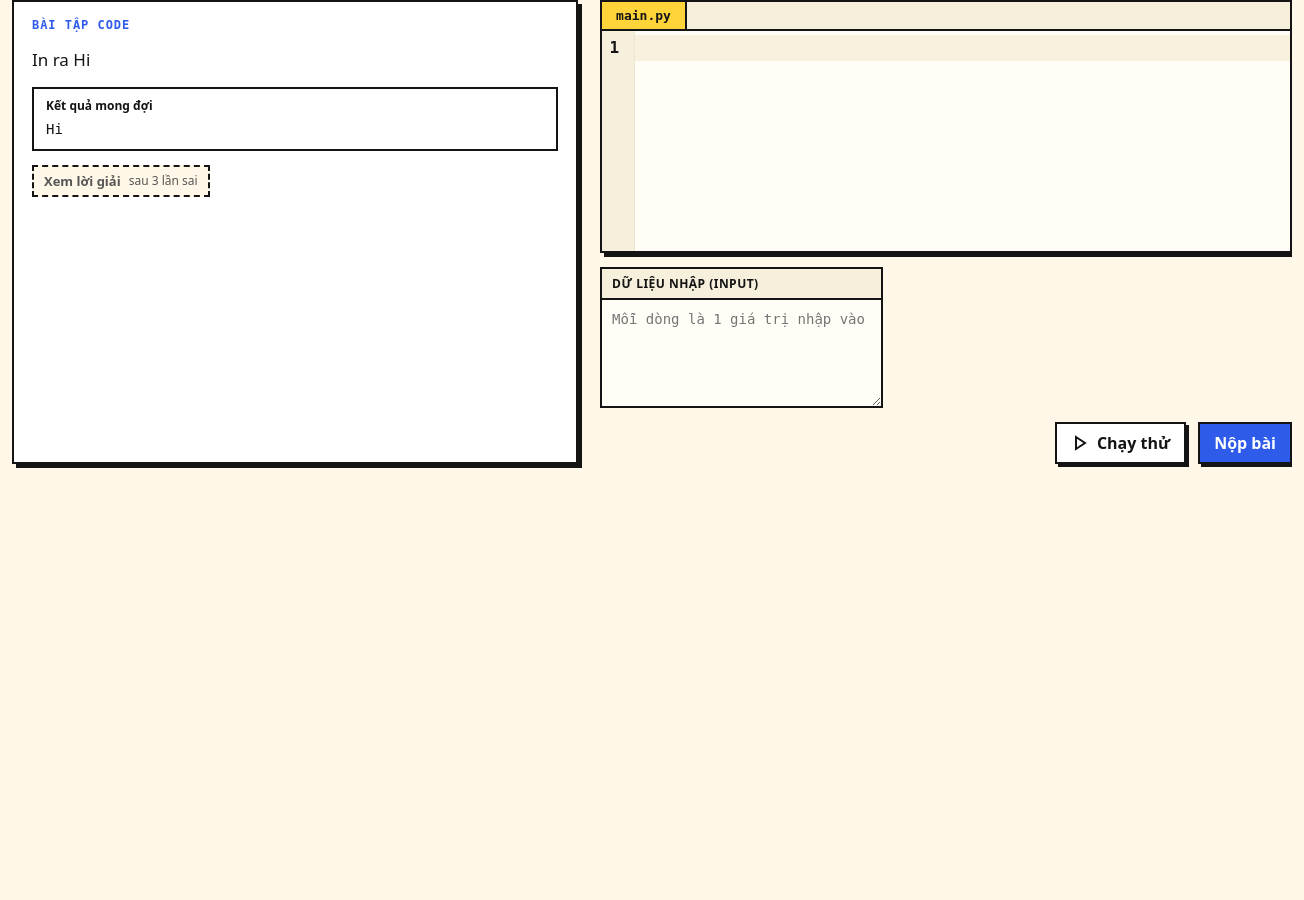
Test: ItemView › a code misconception found by the judge offers its card
Click the button "Nộp bài" at coordinates (1245, 443), box [1198, 422, 1292, 464]
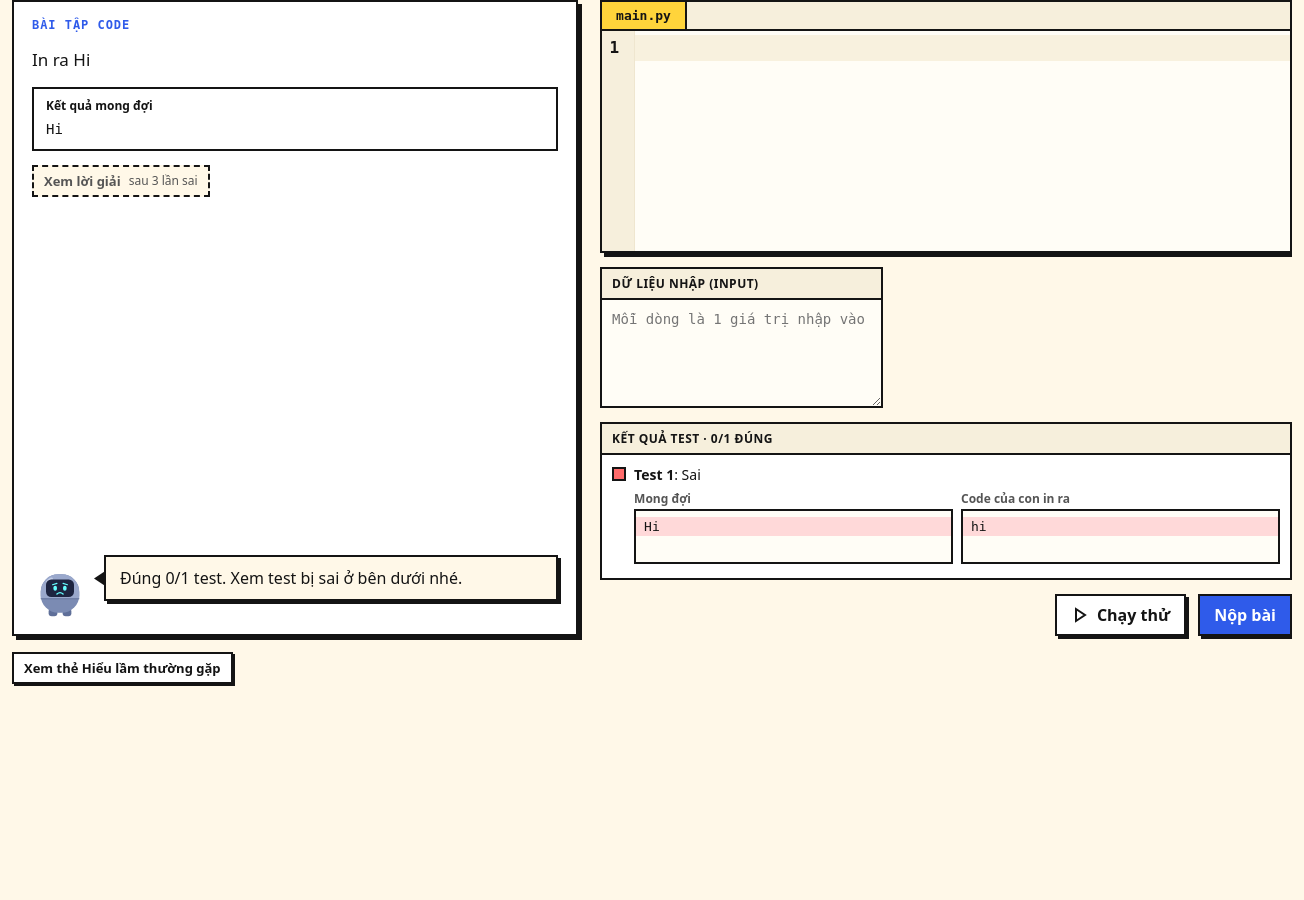
Click the button "Xem thẻ Hiểu lầm thường gặp" at coordinates (122, 668), box [12, 652, 233, 684]
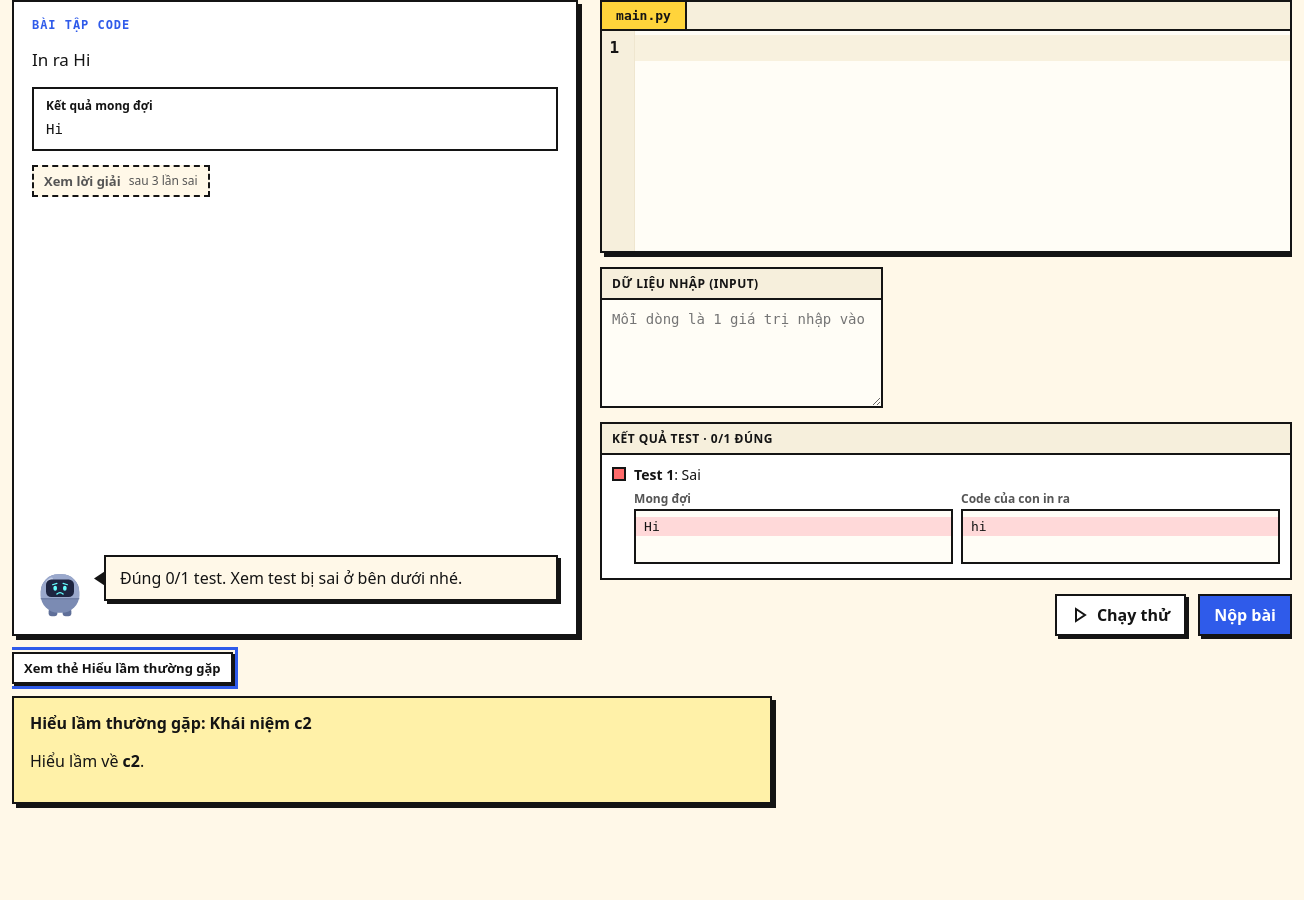
Now the element "Hiểu lầm thường gặp" shows "Khái niệm c2", box [210, 712, 312, 734]
